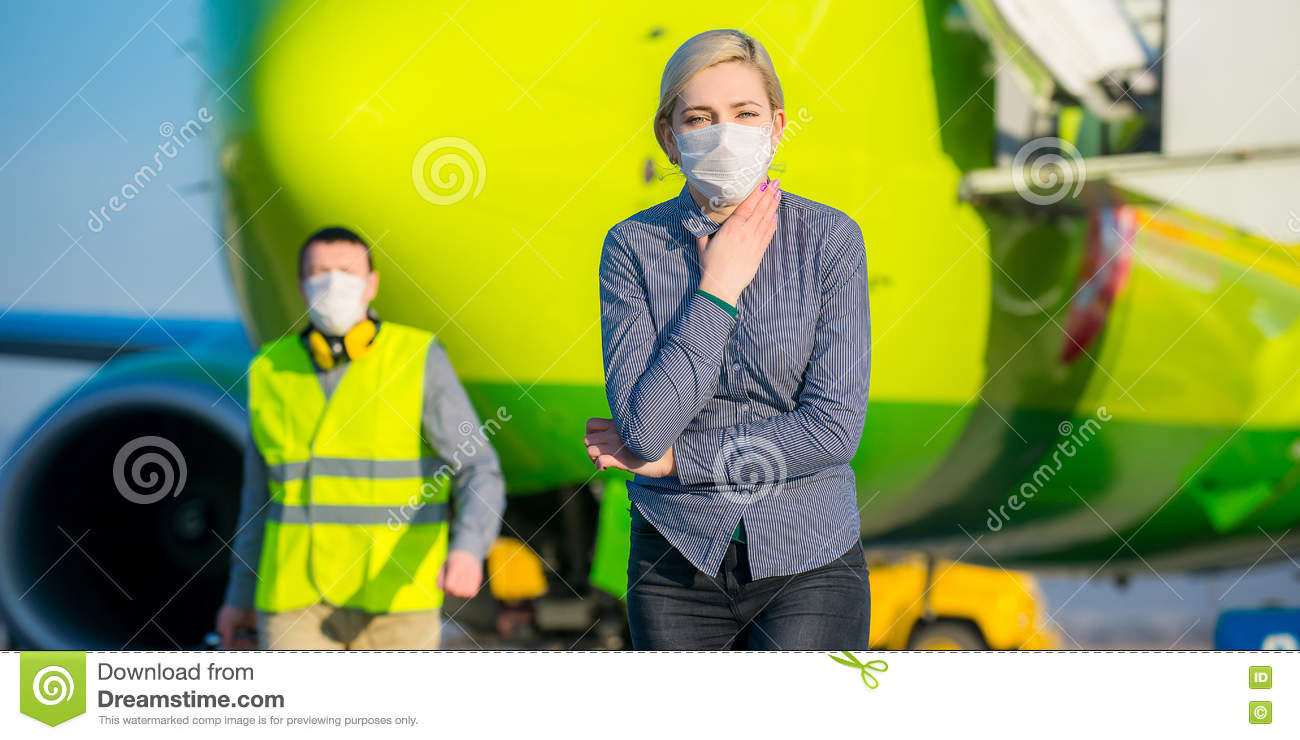mask: (676, 120, 770, 210)
